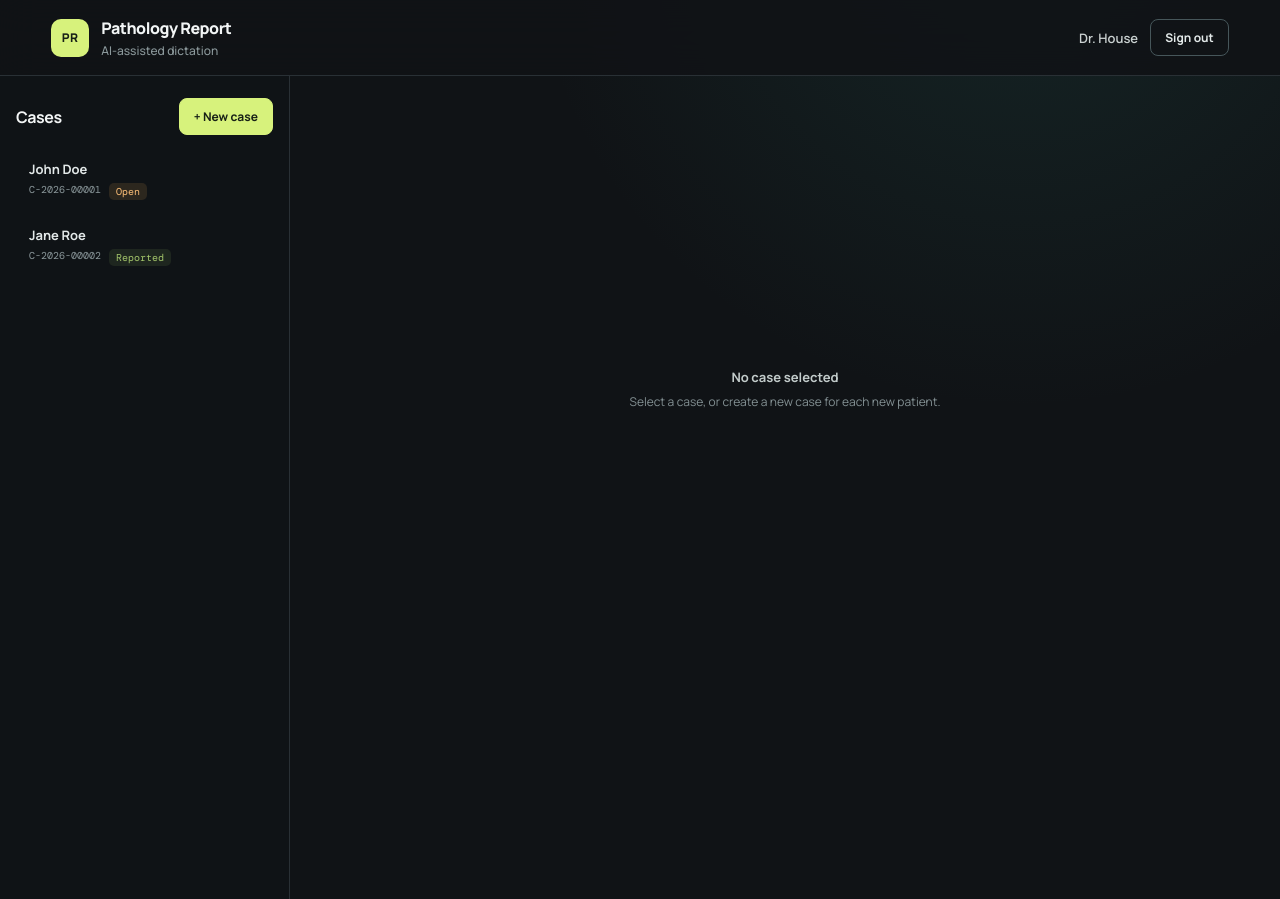
Test: cases › shows the saved report after approving
Expected: the text "Dr. House" is shown, [1079,28,1138,46]
Click the button "John Doe C-2026-00001 Open": (144, 180) [16,149,273,211]
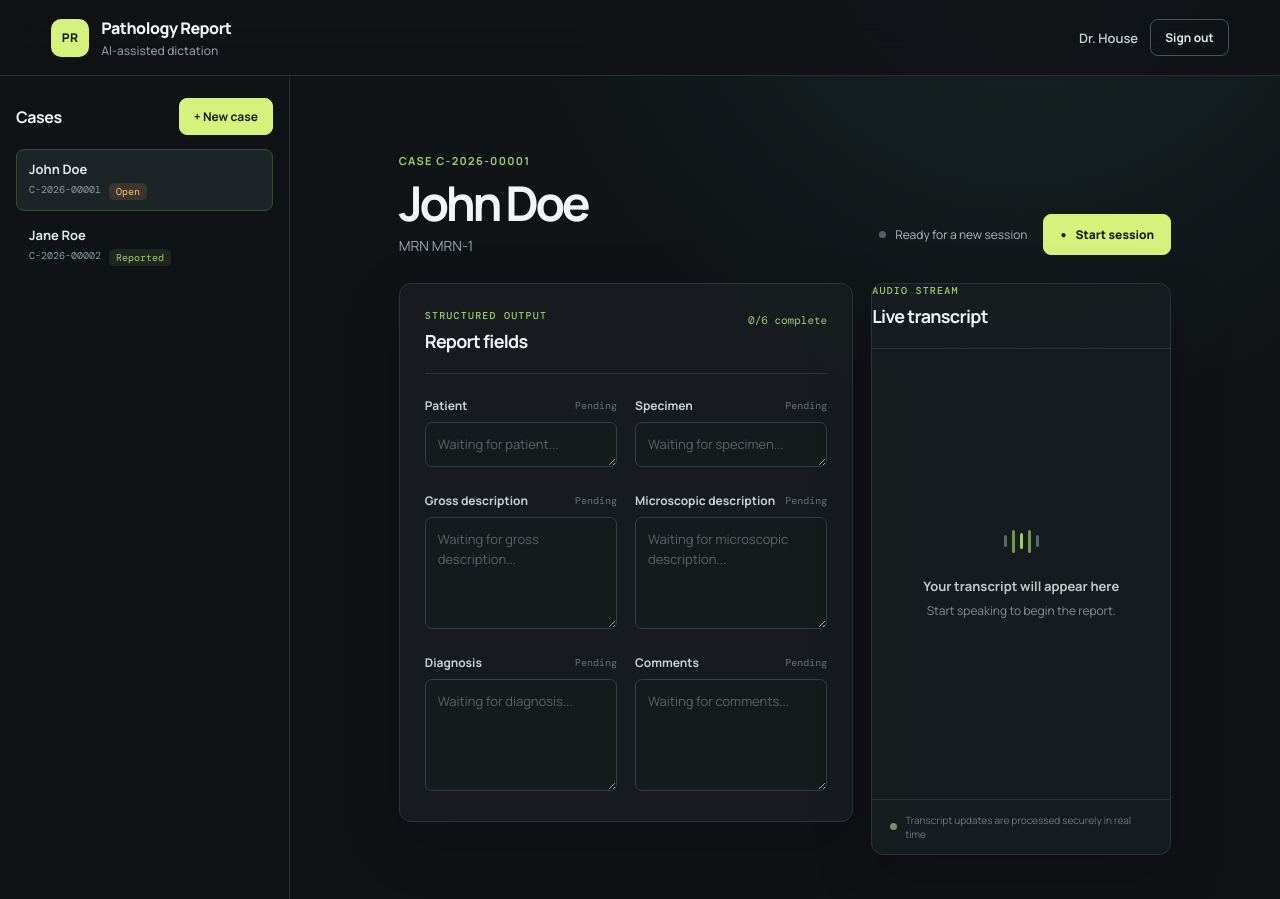
Expected: the heading "John Doe" is shown, [399,179,587,226]
Click the button "● Start session": (1107, 234) [1043,214,1171,255]
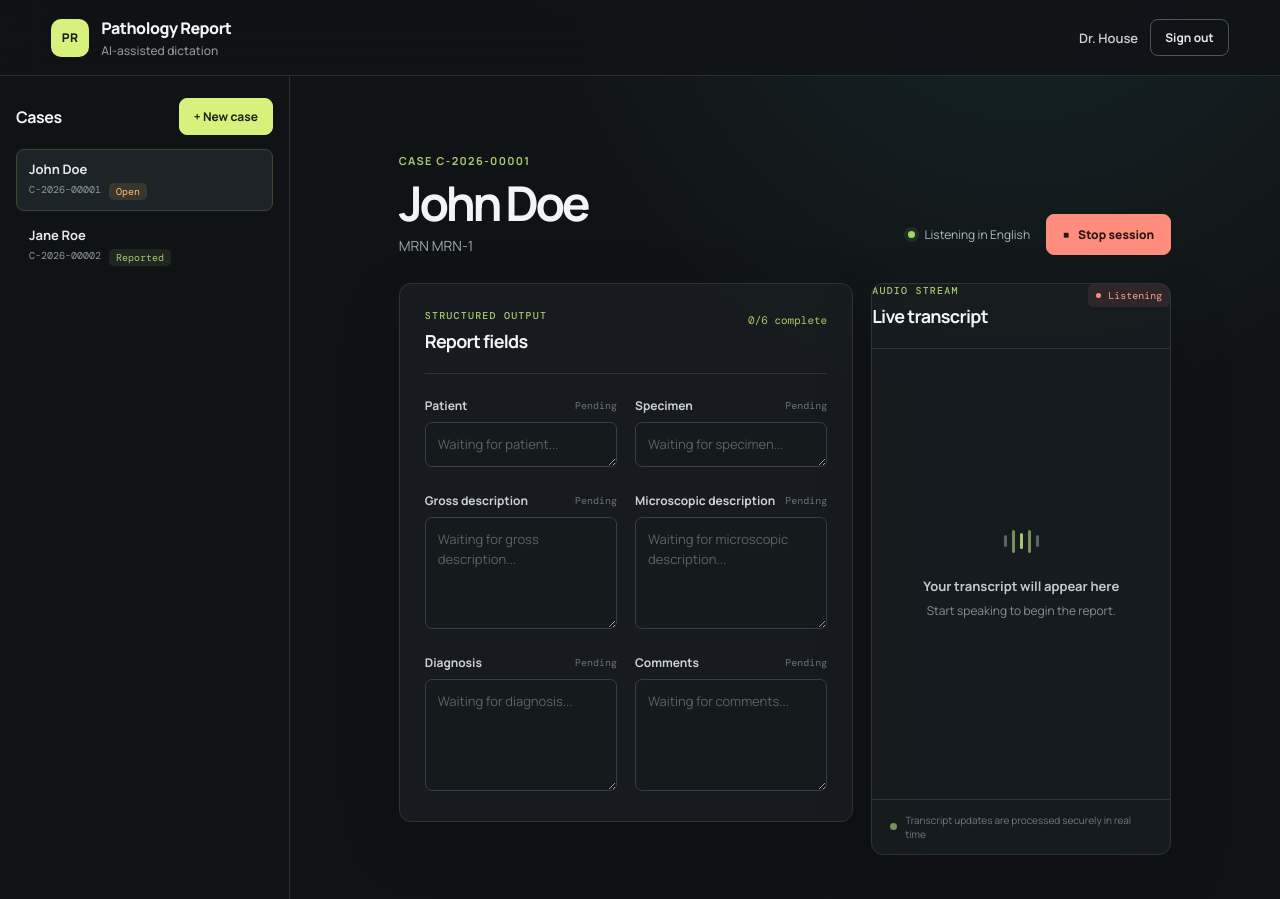
Click the button "■ Stop session": (1109, 234) [1046,214,1171,255]
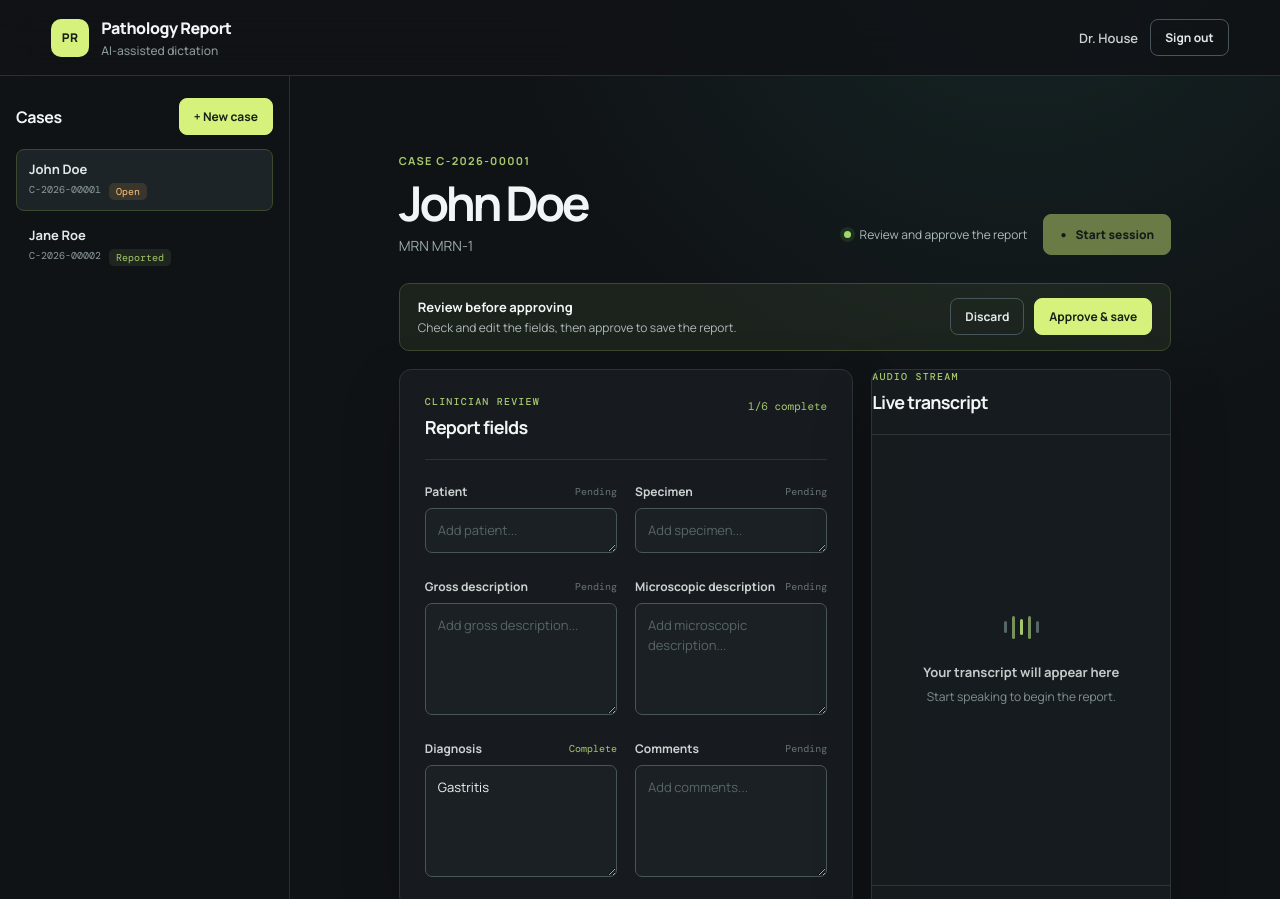
Click the button "Approve & save": (1093, 317) [1034,298,1152,335]
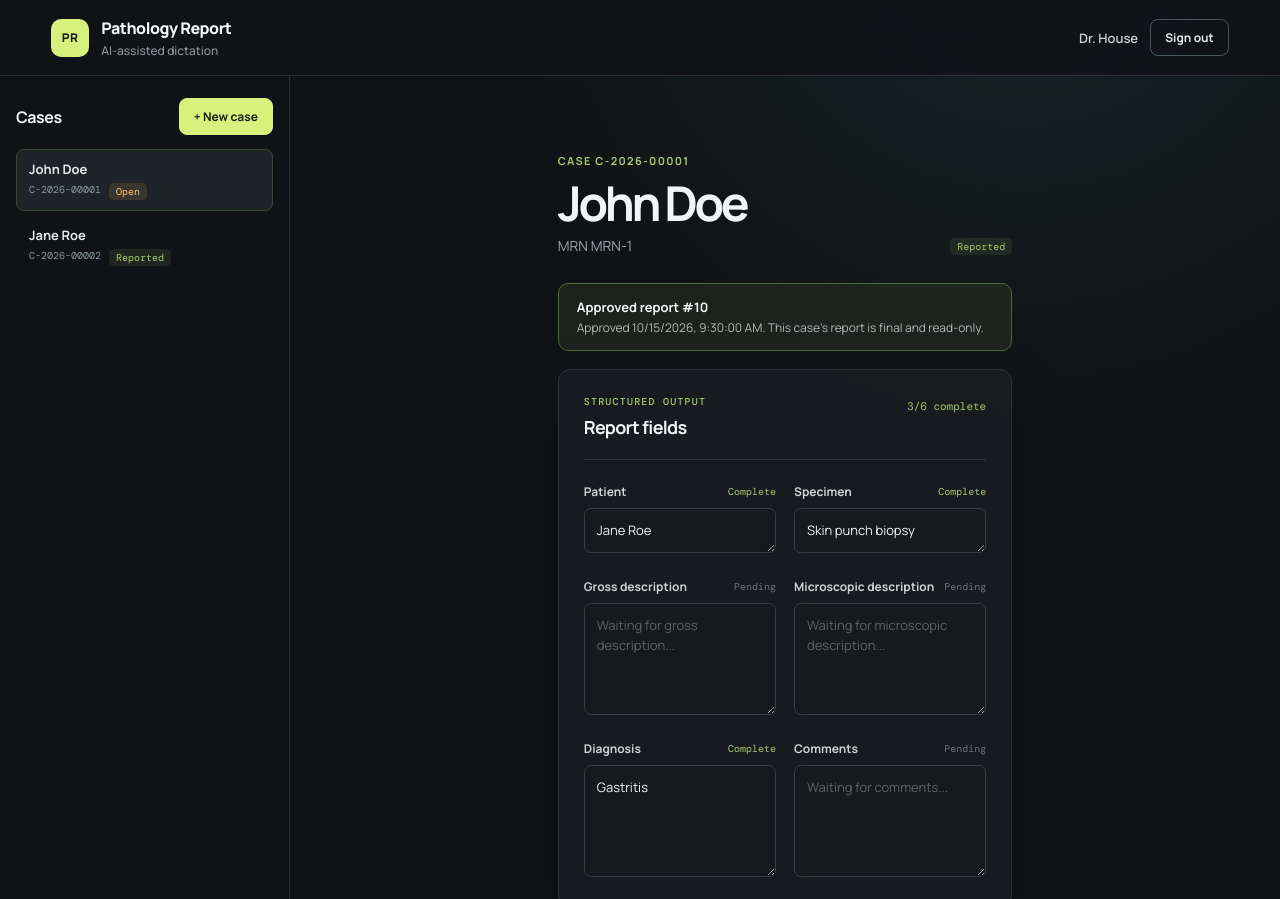
Expected: the text "Approved report #10" is shown, [577,298,708,316]
